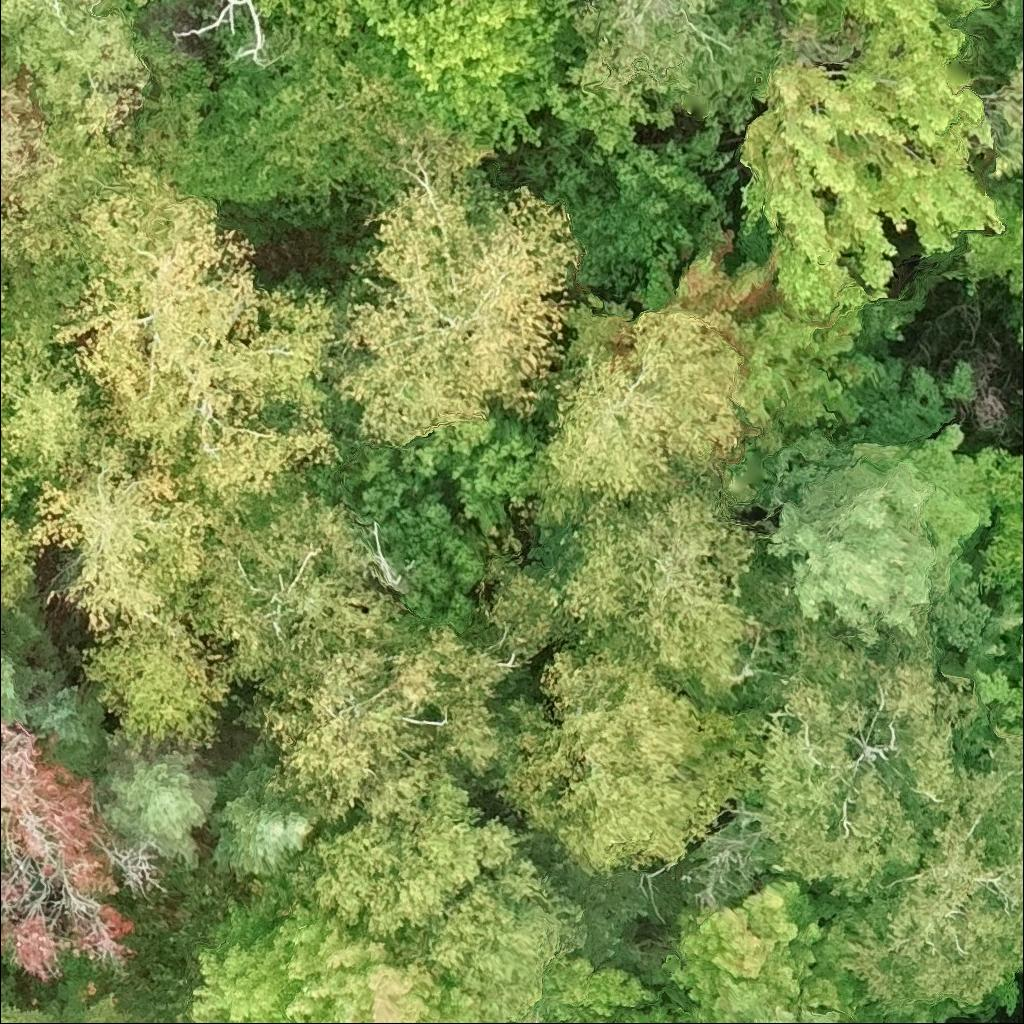crown: (52, 166, 346, 513), (328, 116, 589, 448), (732, 25, 1005, 326), (738, 560, 979, 900), (640, 166, 897, 453), (489, 641, 763, 880), (236, 616, 522, 822), (527, 477, 775, 706), (840, 734, 1023, 1011), (535, 308, 758, 522), (660, 875, 971, 1023), (188, 897, 541, 1023), (181, 490, 396, 693), (295, 768, 524, 944), (28, 430, 216, 633), (763, 441, 946, 639), (0, 721, 136, 980), (387, 849, 593, 1019), (357, 0, 585, 153), (844, 424, 995, 595), (567, 0, 781, 111), (77, 603, 235, 747), (394, 401, 545, 539), (355, 444, 486, 599), (0, 312, 102, 485), (0, 0, 151, 106), (98, 738, 213, 866), (571, 193, 697, 304), (604, 119, 737, 218), (217, 763, 318, 884), (778, 0, 1006, 52), (538, 953, 694, 1023), (544, 84, 678, 162), (0, 89, 62, 255), (476, 548, 564, 664), (958, 641, 1023, 771), (972, 445, 1023, 590), (978, 50, 1023, 184), (17, 685, 92, 747), (0, 457, 22, 585), (0, 655, 33, 723), (45, 1005, 122, 1023), (766, 1009, 840, 1023), (0, 1004, 52, 1023), (1012, 293, 1023, 354), (0, 275, 7, 332), (447, 0, 484, 5), (0, 981, 2, 993), (1021, 627, 1023, 636), (1022, 414, 1023, 423)
